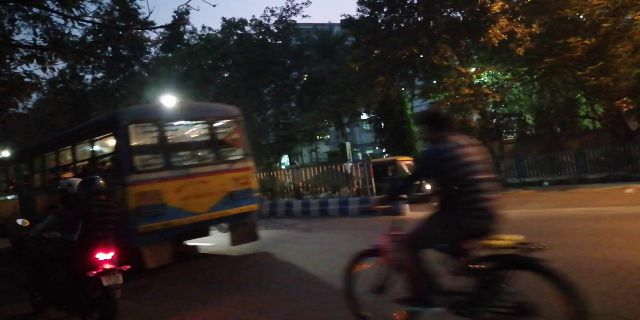Bus: (16, 110, 265, 235)
